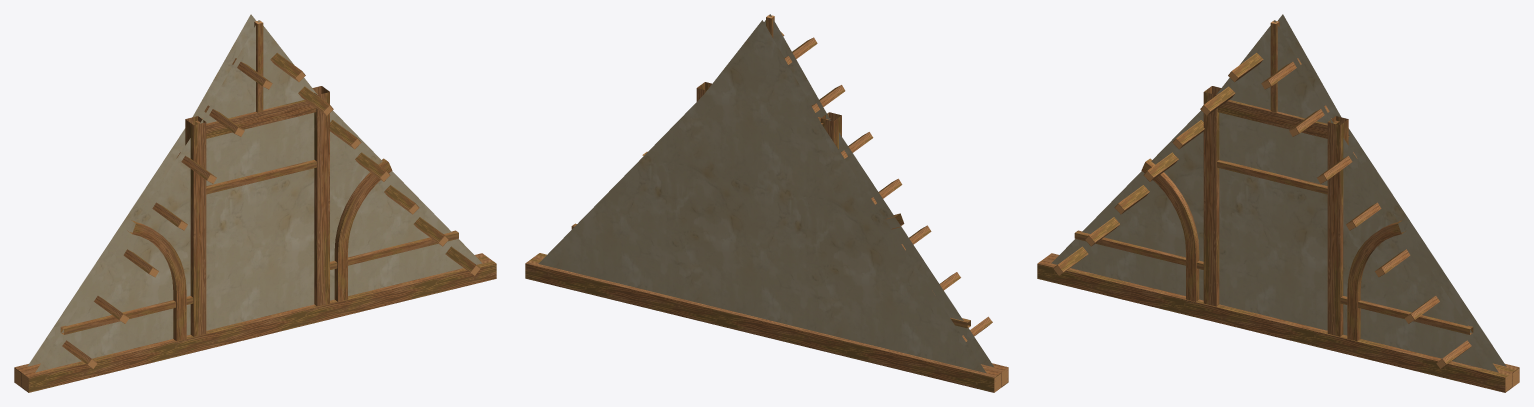
File: Roof_Front_Brick8.gltf
3 renders of one model, left to right at view 1: azimuth 30°, elevation 25°; view 2: azimuth 150°, elevation 25°; view 3: azimuth 330°, elevation 25°, orthographic.
Parts seen in each view (by area): view 1: Roof_Front_Brick8; view 2: Roof_Front_Brick8; view 3: Roof_Front_Brick8.
Boxes of the visible parts, x1,y1,x2,y2 form: Roof_Front_Brick8: (14,14,496,392); Roof_Front_Brick8: (525,14,1008,392); Roof_Front_Brick8: (1037,14,1519,392).
Size of the model in its own units: 8.51 by 5.45 by 1.13.
Materials: 2 (2 with a texture image).
